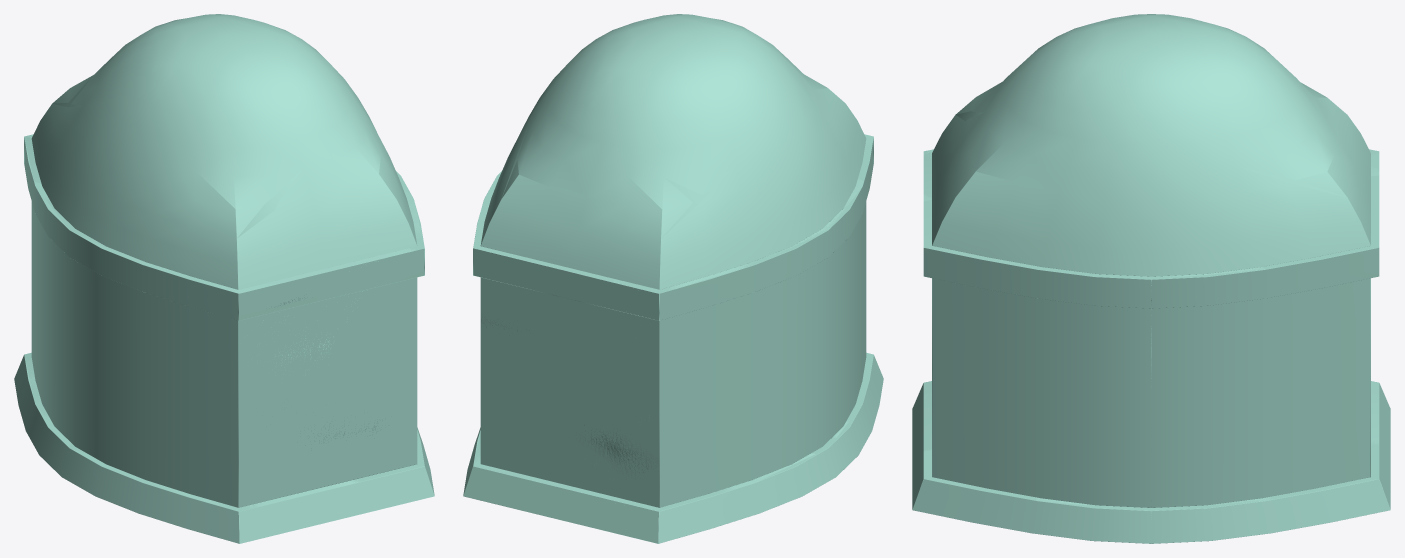
Rendered from space-kit__hangar_roundA.glb.
3 renders of one model, left to right at view 1: azimuth 30°, elevation 25°; view 2: azimuth 150°, elevation 25°; view 3: azimuth 270°, elevation 25°, orthographic. The views are drawn at different scales.
Visible parts, largest first — view 1: L0_accent, L1_accent; view 2: L0_accent, L1_accent; view 3: L0_accent, L1_accent.
Boxes of the visible parts, x1,y1,x2,y2 form: L0_accent: [14, 14, 434, 543]; L1_accent: [24, 76, 432, 543]; L0_accent: [463, 14, 883, 543]; L1_accent: [465, 121, 873, 543]; L0_accent: [912, 14, 1390, 543]; L1_accent: [912, 111, 1390, 534].
Size of the model in its own units: 0.8333 by 0.9869 by 1.
